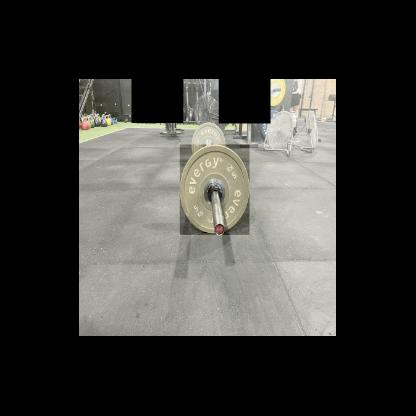barbell: (180, 145, 250, 235)
